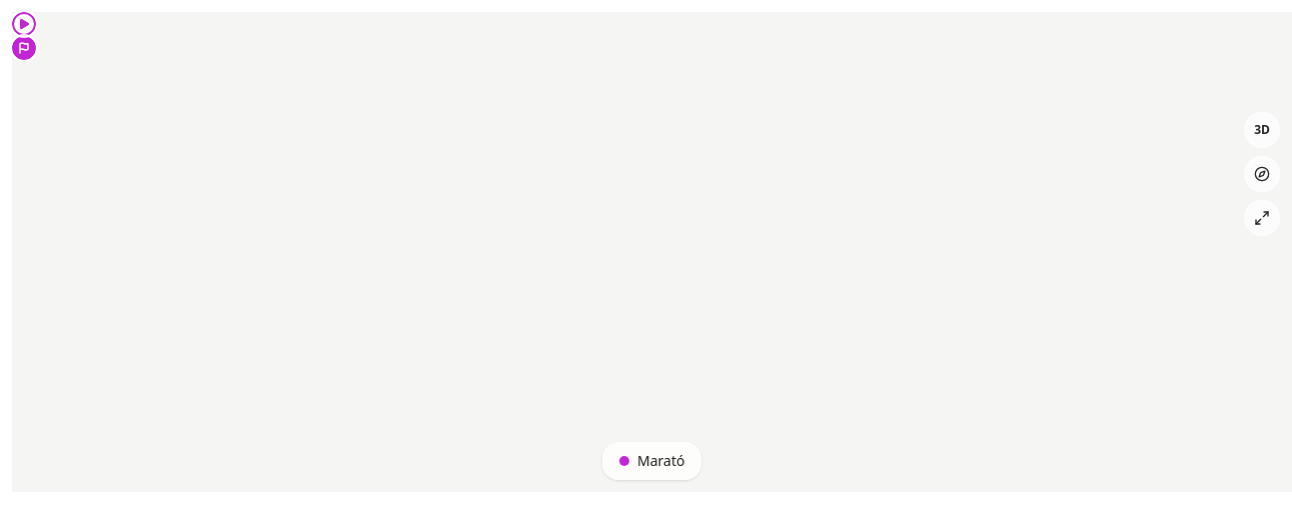
Test case: EventTrackMap › updates bounded 3D angle, relief, and hillshade live and resets them
Step 1. Click the button with test id "event-track-map-terrain-toggle" → click(1262, 130), box [1244,112,1280,148]
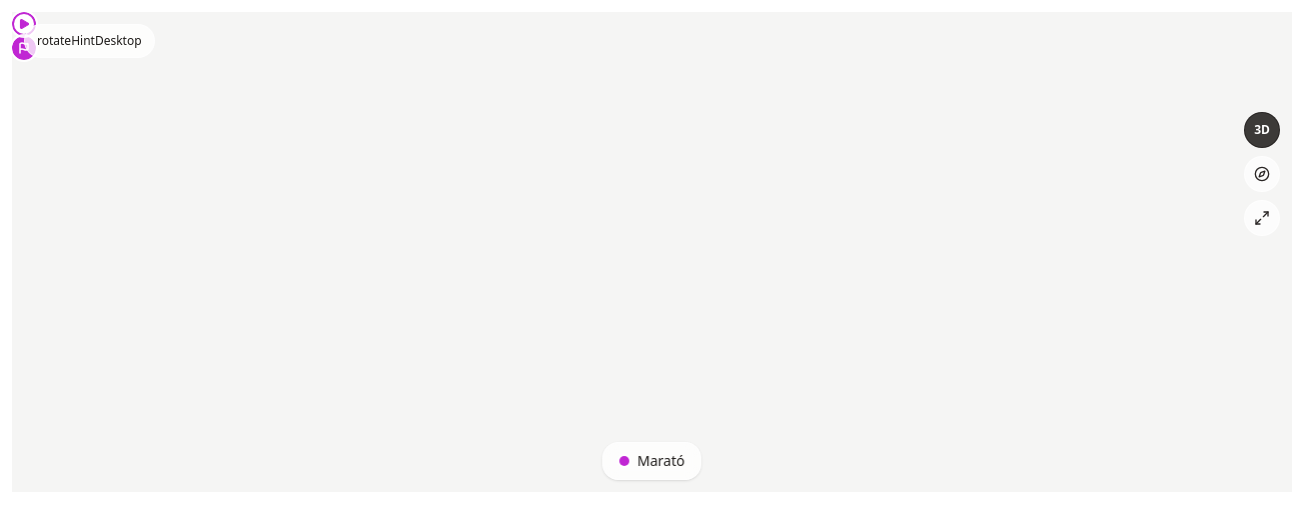
Step 2. Click the button with test id "event-track-map-terrain-toggle" → click(1262, 130), box [1244,112,1280,148]
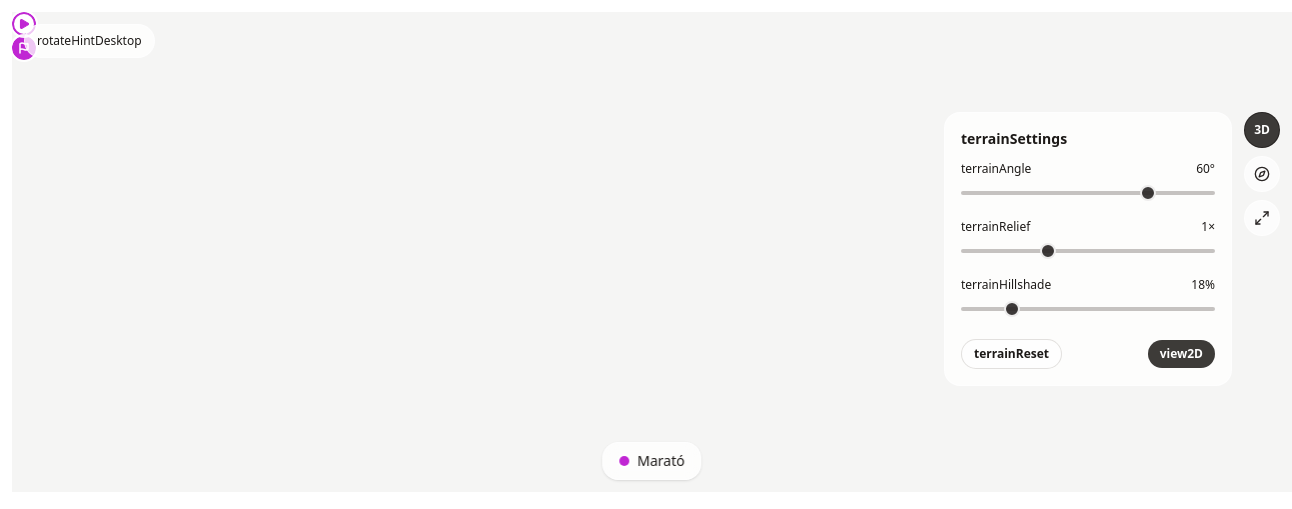
Expected: the slider with test id "event-track-map-pitch" holds "60"
Expected: the slider with test id "event-track-map-exaggeration" holds "1", [961,243,1215,259]
Expected: the slider with test id "event-track-map-hillshade" holds "0.18", [961,301,1215,317]
Step 3. Set the slider with test id "event-track-map-pitch" to "70" → (1207, 193), box [961,185,1215,201]
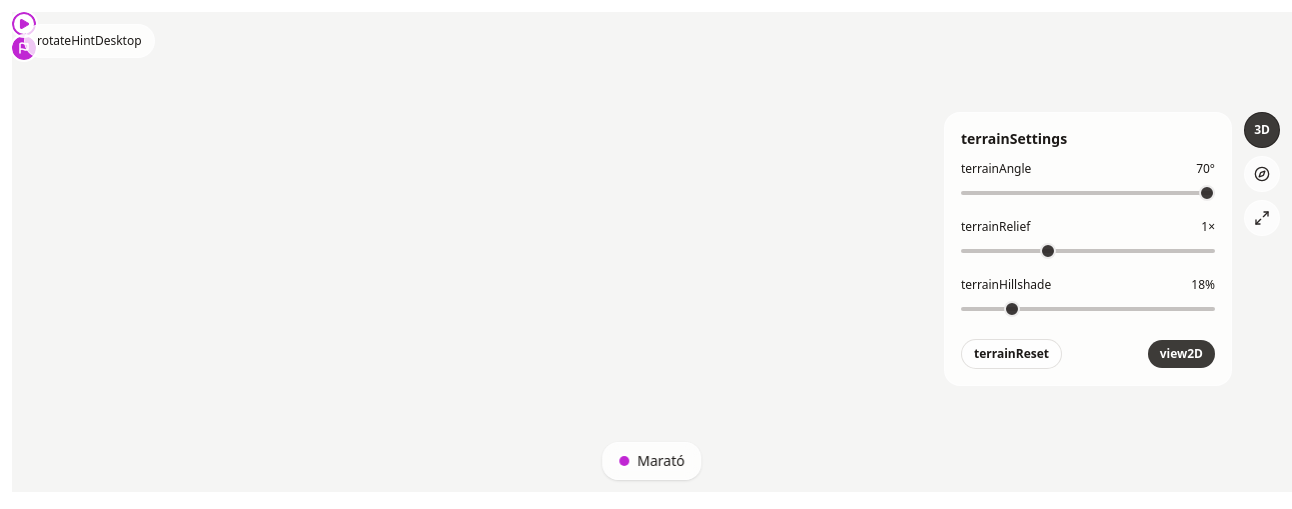
Step 4. Set the slider with test id "event-track-map-exaggeration" to "1.5" → (1128, 251), box [961,243,1215,259]
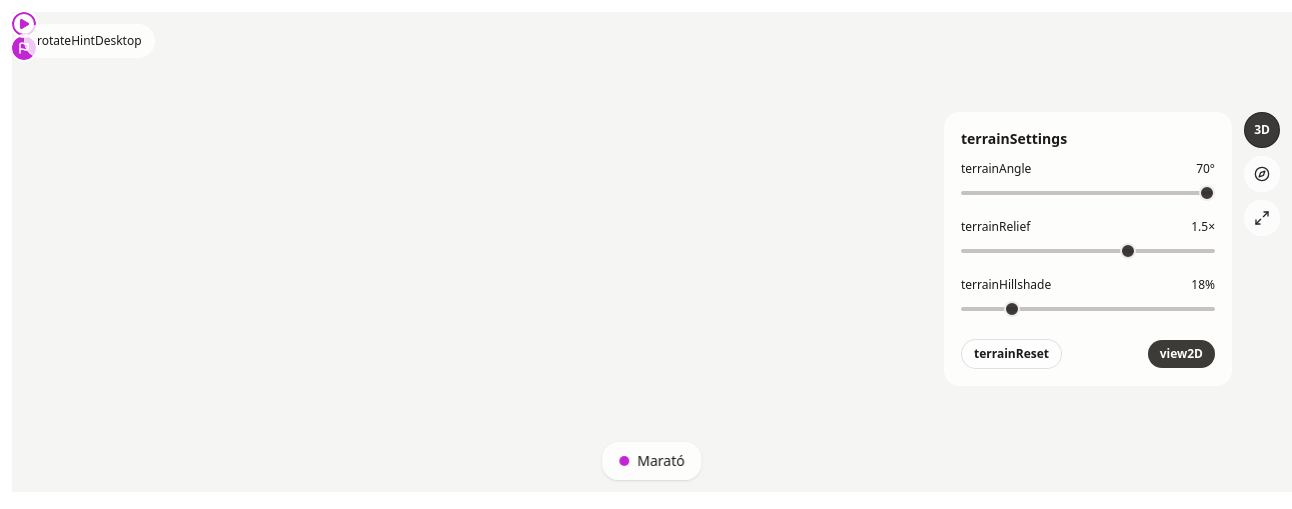
Step 5. Set the slider with test id "event-track-map-hillshade" to "0.6" → (1112, 309), box [961,301,1215,317]
Wait 20 ms
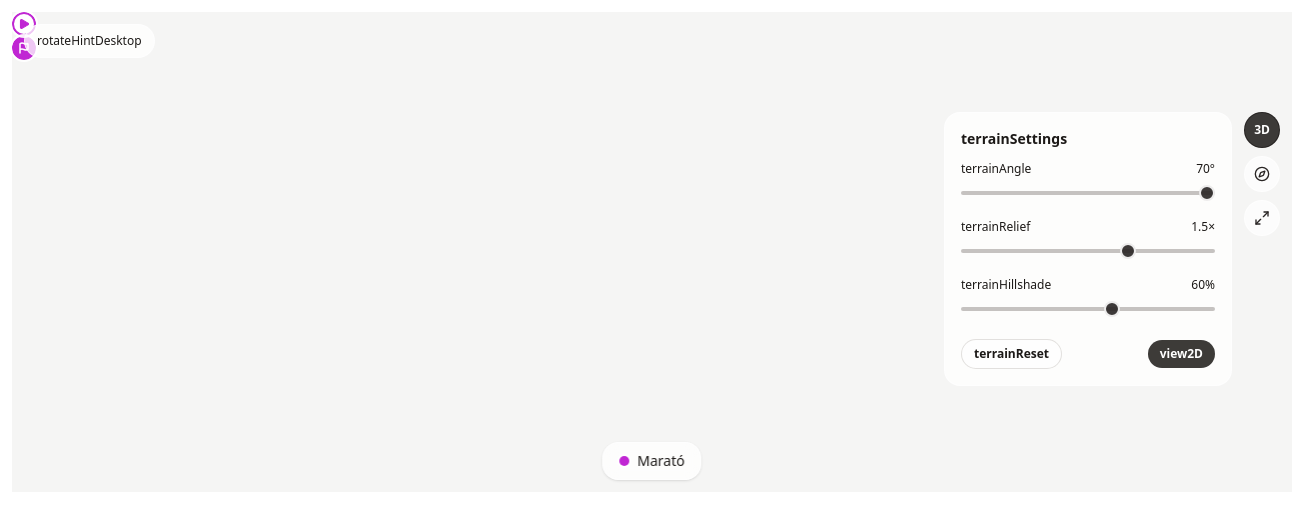
Step 6. Click the button "terrainReset" → click(1012, 354), box [961,339,1062,369]
Wait 20 ms
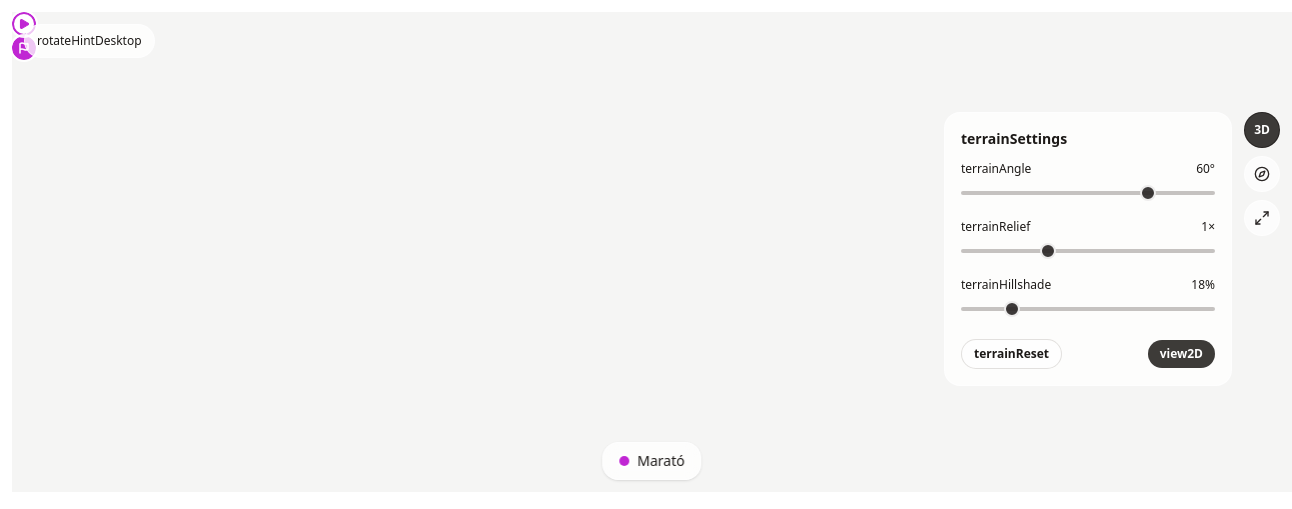
Expected: the slider with test id "event-track-map-pitch" holds "60", [961,185,1215,201]
Expected: the slider with test id "event-track-map-exaggeration" holds "1", [961,243,1215,259]
Expected: the slider with test id "event-track-map-hillshade" holds "0.18", [961,301,1215,317]
